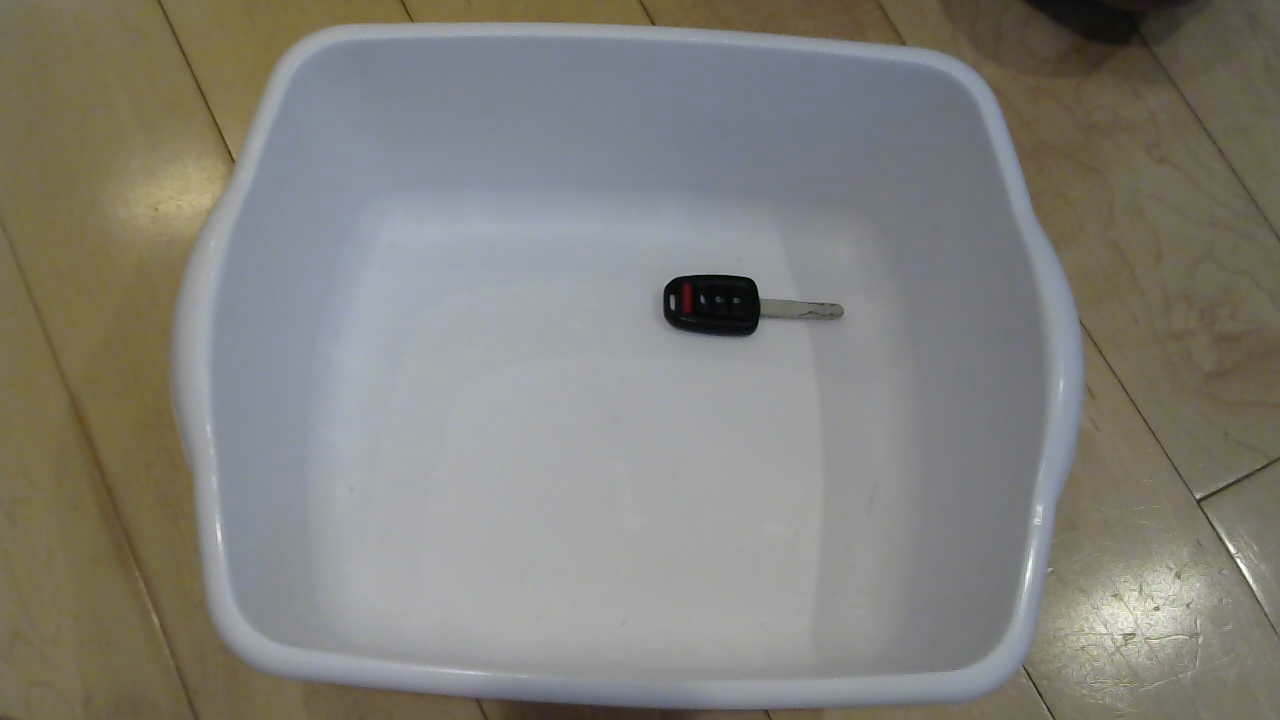key: (637, 259, 863, 355)
